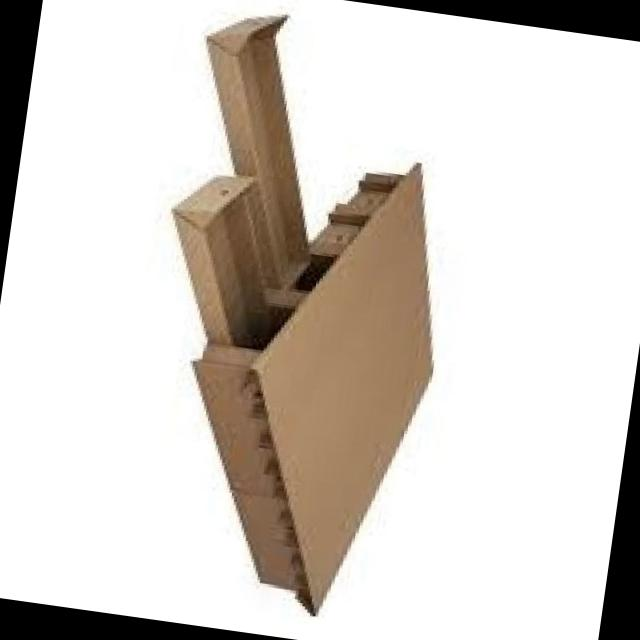cardboard paper: (174, 21, 433, 615)
